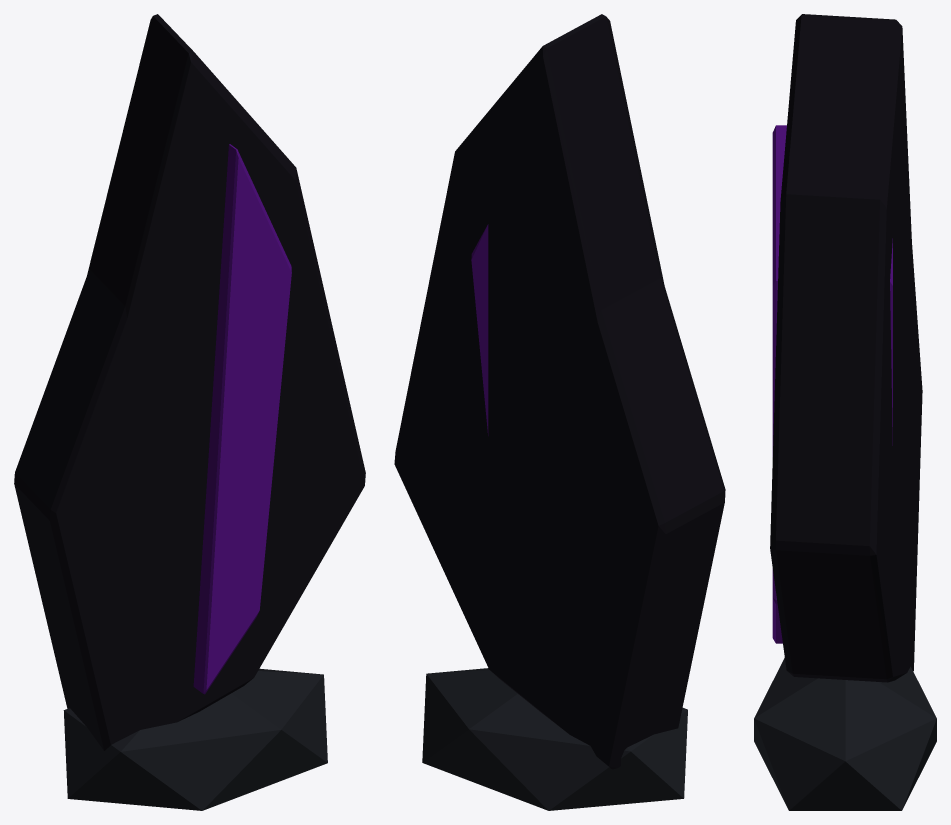
File: obsidian_shard.obj
3 views of the same model, side by side, from view 1: azimuth 30°, elevation 25°; view 2: azimuth 150°, elevation 25°; view 3: azimuth 270°, elevation 25° (orthographic).
Visible parts, largest first — view 1: ObsidianShard_Main.001_MAT_Obsidian, ObsidianShard_Edge.001_MAT_Amethyst, ObsidianShard_Base.001_MAT_DarkIron; view 2: ObsidianShard_Main.001_MAT_Obsidian, ObsidianShard_Base.001_MAT_DarkIron, ObsidianShard_Edge.001_MAT_Amethyst; view 3: ObsidianShard_Main.001_MAT_Obsidian, ObsidianShard_Base.001_MAT_DarkIron, ObsidianShard_Edge.001_MAT_Amethyst.
Part boxes in pixels (x1=…): ObsidianShard_Main.001_MAT_Obsidian: x1=14, y1=14, x2=365, y2=750; ObsidianShard_Edge.001_MAT_Amethyst: x1=193, y1=144, x2=291, y2=694; ObsidianShard_Base.001_MAT_DarkIron: x1=63, y1=668, x2=327, y2=810; ObsidianShard_Main.001_MAT_Obsidian: x1=394, y1=14, x2=725, y2=769; ObsidianShard_Base.001_MAT_DarkIron: x1=422, y1=668, x2=687, y2=810; ObsidianShard_Edge.001_MAT_Amethyst: x1=471, y1=224, x2=488, y2=435; ObsidianShard_Main.001_MAT_Obsidian: x1=770, y1=14, x2=922, y2=682; ObsidianShard_Base.001_MAT_DarkIron: x1=754, y1=658, x2=936, y2=810; ObsidianShard_Edge.001_MAT_Amethyst: x1=772, y1=125, x2=892, y2=643.
Size of the model in its own units: 1.1 by 2.69 by 0.5784.
